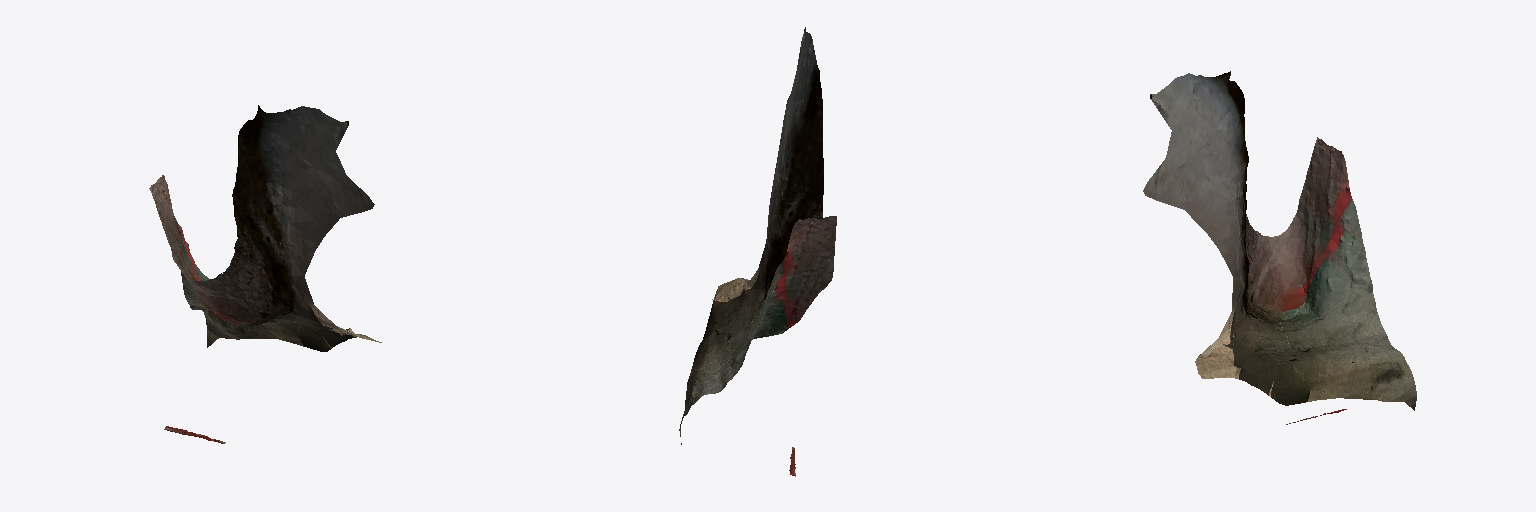
The picture shows the model from 3 angles: view 1: azimuth 30°, elevation 25°; view 2: azimuth 150°, elevation 25°; view 3: azimuth 270°, elevation 25°; orthographic projection.
Parts seen in each view (by area): view 1: texture_0; view 2: texture_0; view 3: texture_0.
Boxes of the visible parts, <box> form: texture_0: <box>149,105,381,443</box>; texture_0: <box>679,27,836,476</box>; texture_0: <box>1143,71,1416,424</box>.
Size of the model in its own units: 0.184 by 0.3655 by 0.2476.
1 materials, 1 textured.